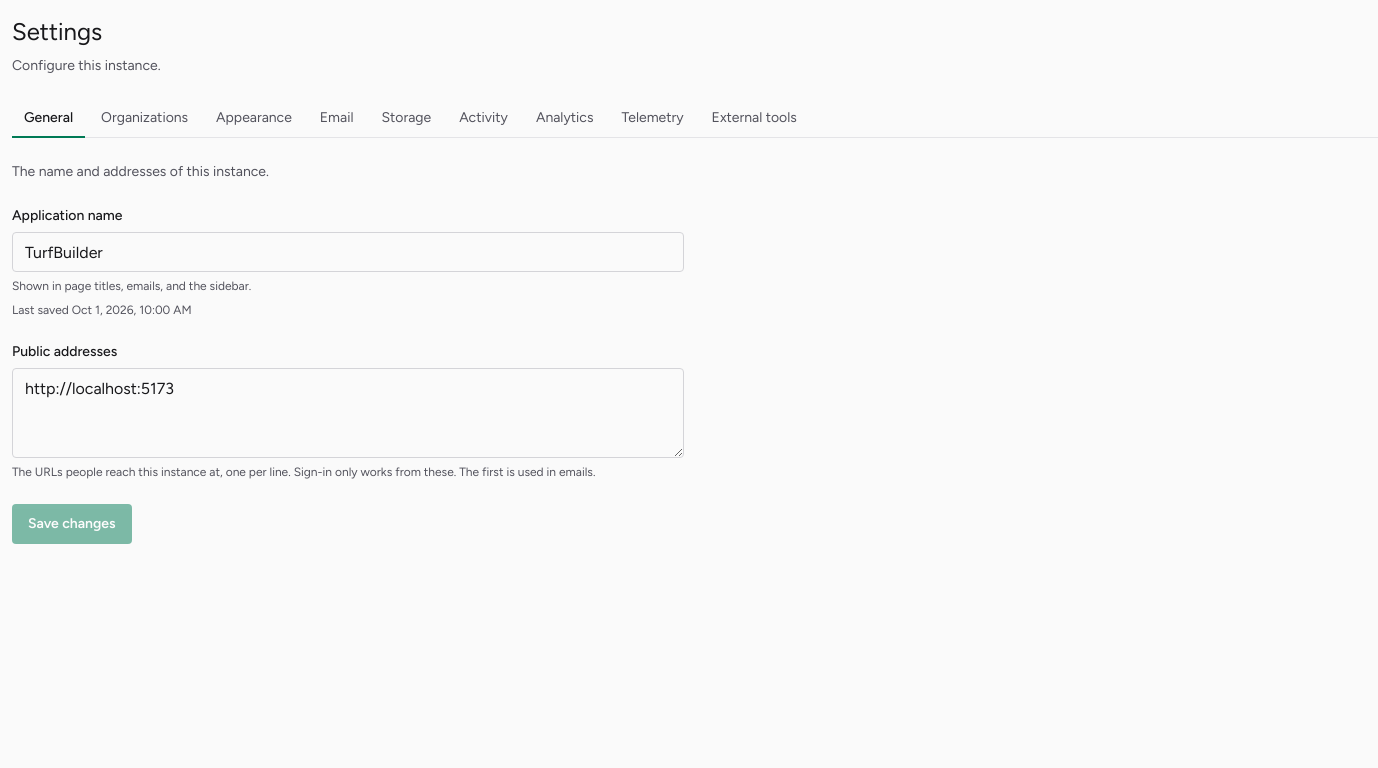
Scenario: InfraSettingsPage › sends only the changed values
The image size is (1378, 768).
Type "Acme Canvass" into the field labelled "Application name" at (348, 252), box [12,232,684,272]
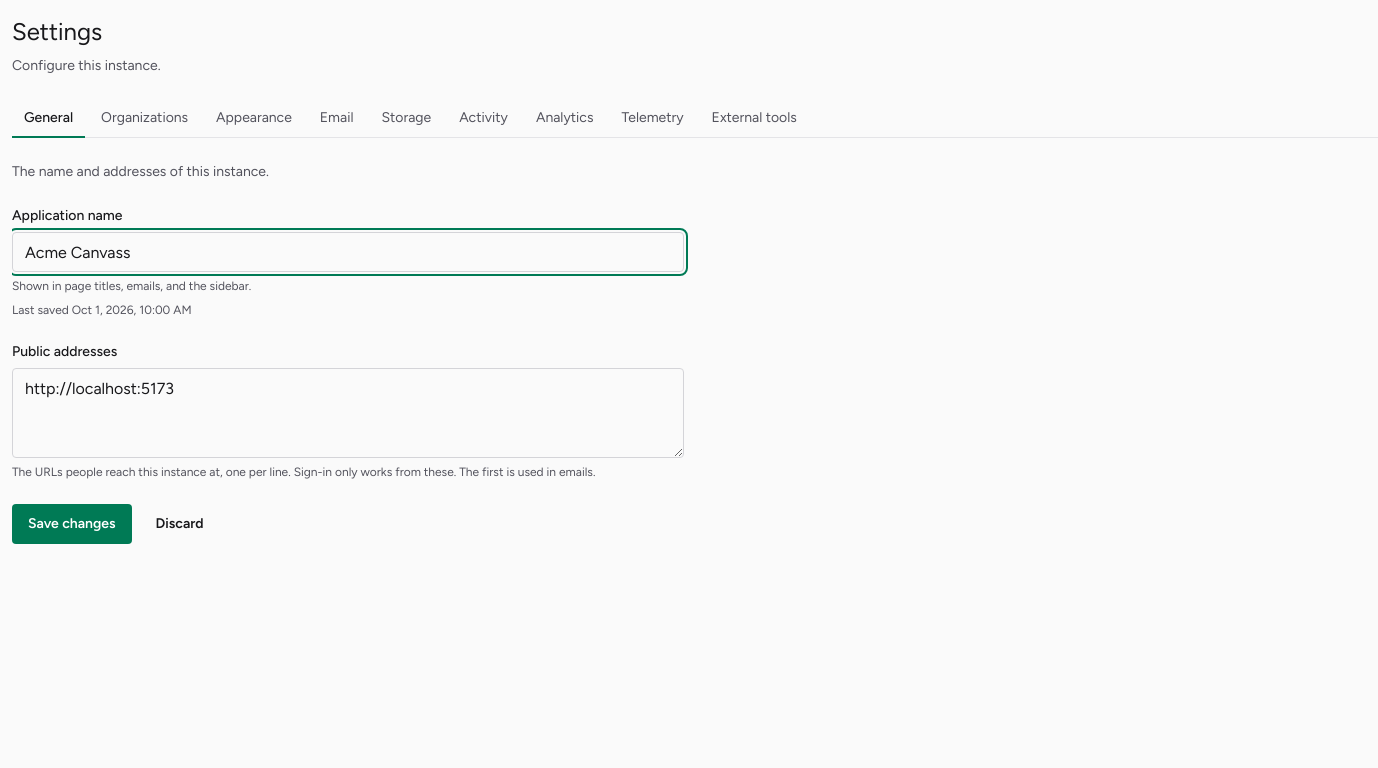
Click the button "Save changes" at (72, 524), box [12,504,132,544]
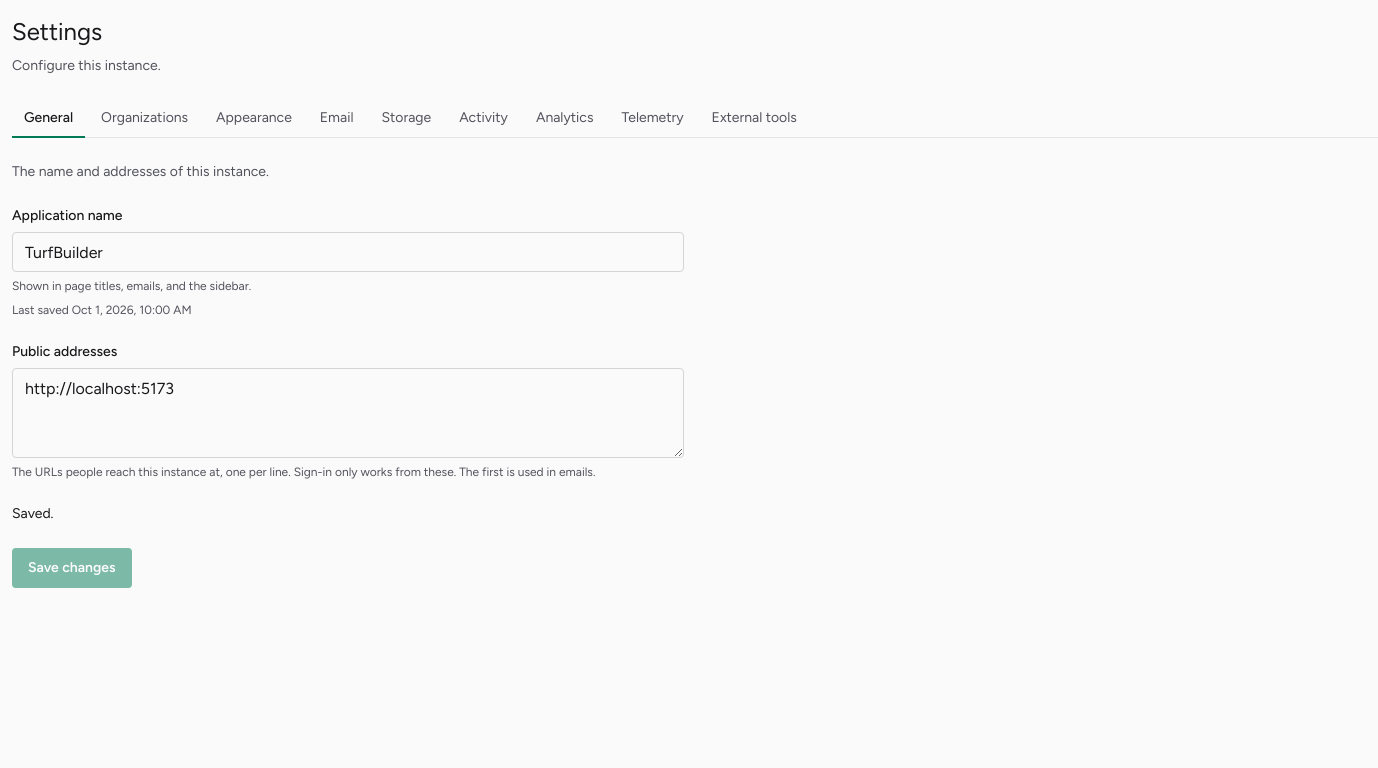
Expected: the message reads "Saved.", [12,505,54,522]
